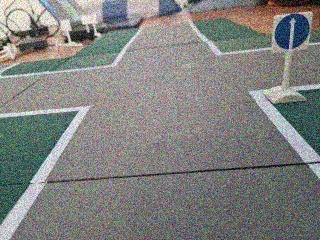straight: (268, 8, 312, 53)
